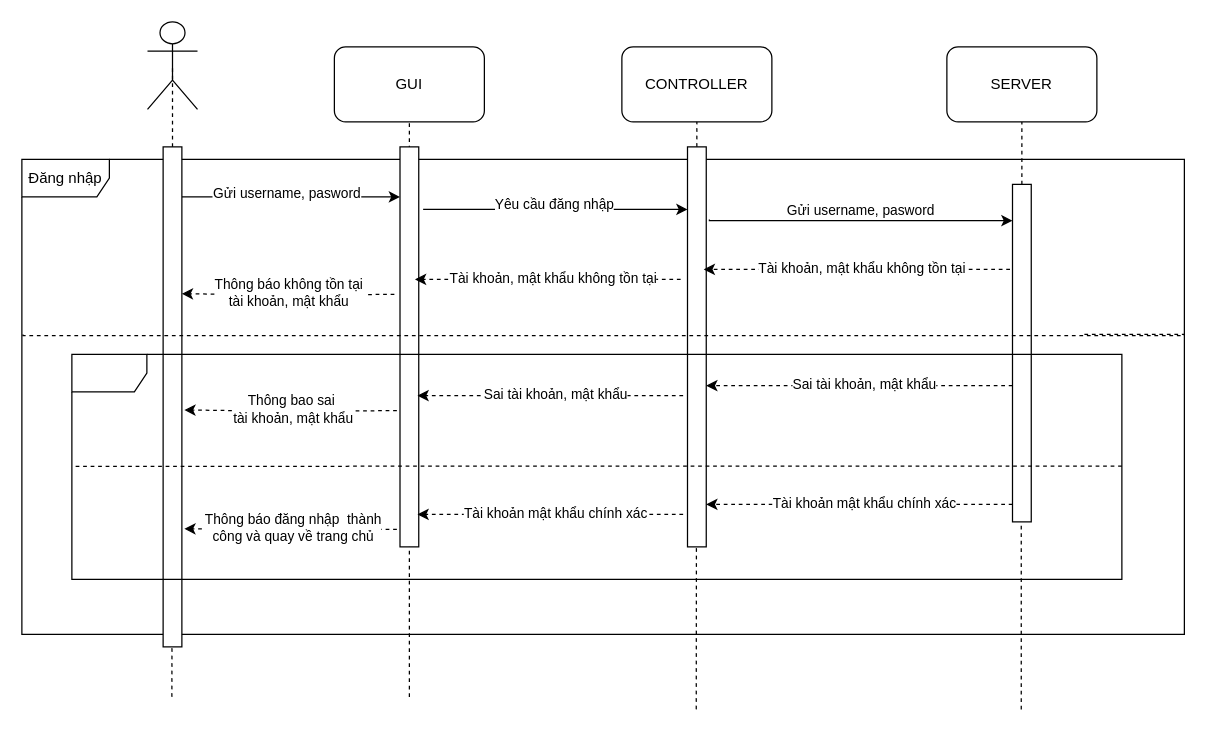
This 1208x733 diagram has some shape labels left out. Each missing label, with the centre of its shape:
"frame" goes at pixel 596 466.
"Người dùng" goes at pixel 172 65.
